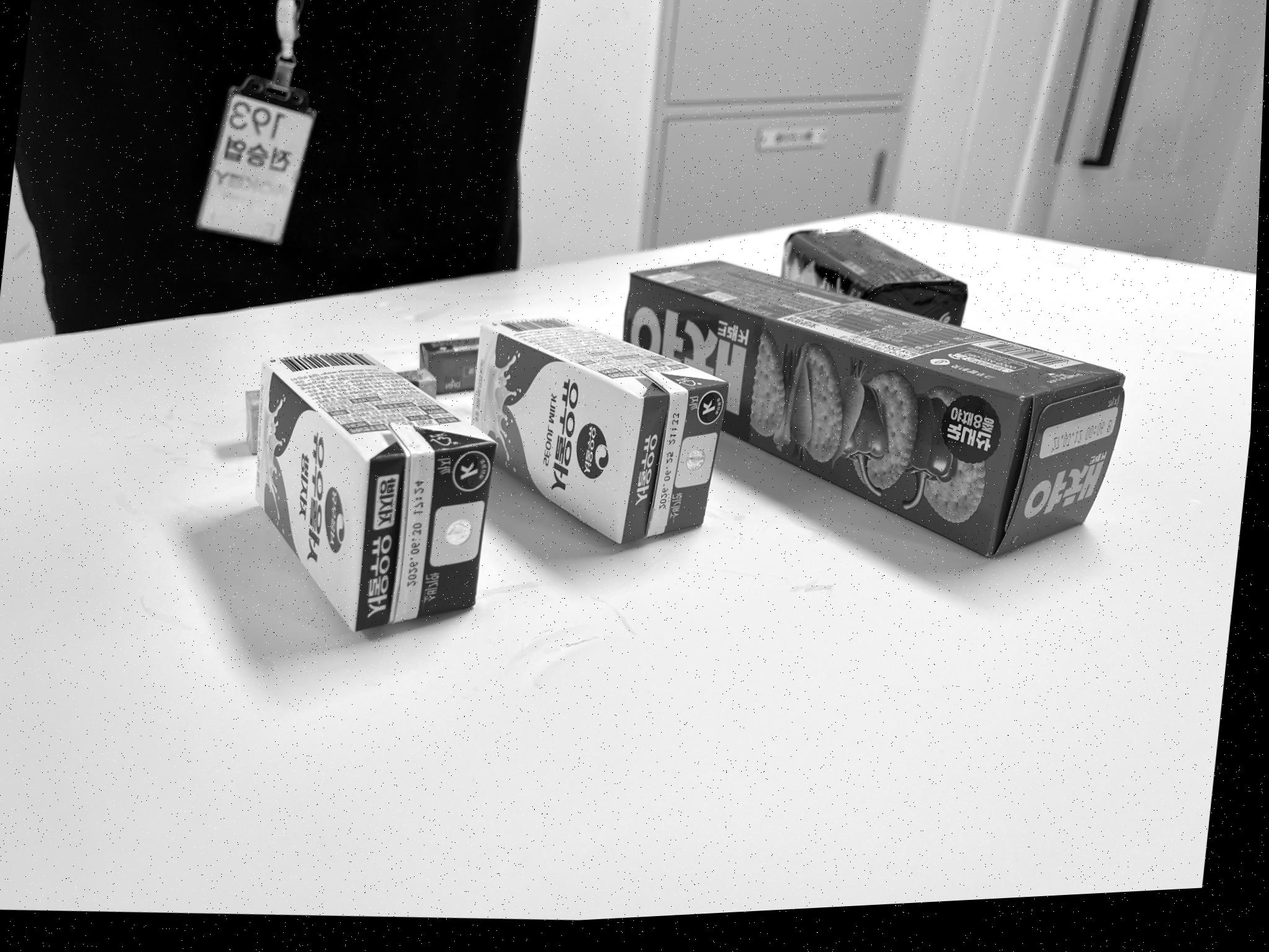cracker_ace: (779, 227, 968, 325)
cracker_vege: (616, 261, 1123, 561)
gum_green: (416, 336, 478, 398)
milk_blue: (252, 347, 493, 635)
milk_green: (465, 315, 722, 548)
